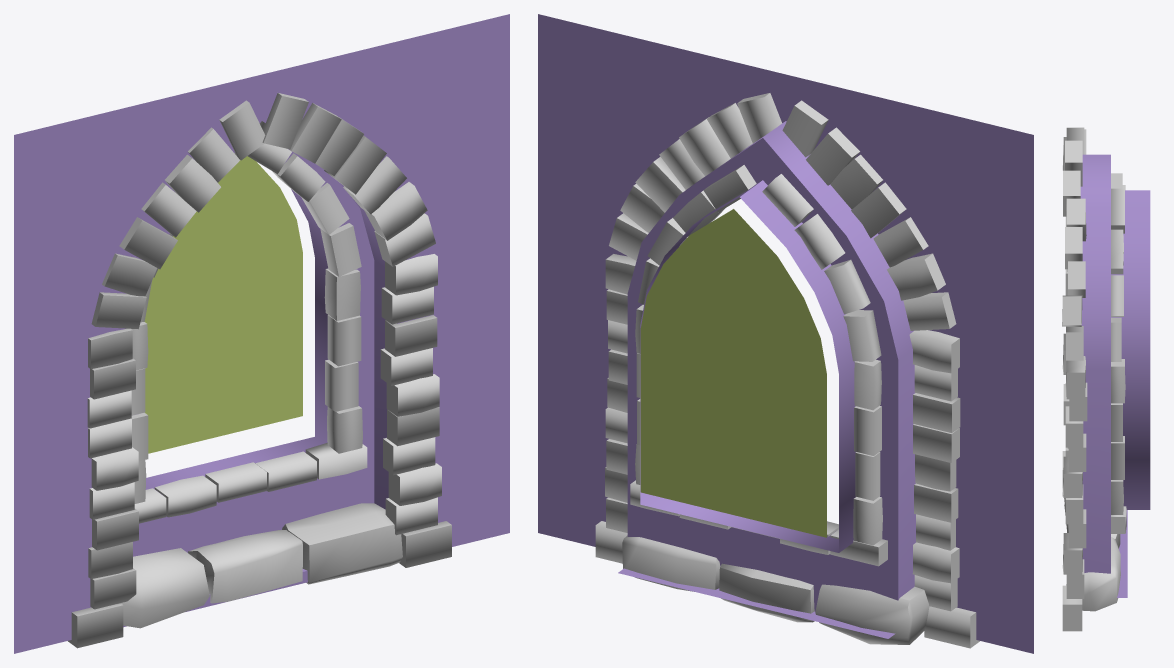
Rendered from window_a_inside.fbx.
3 renders of one model, left to right at view 1: azimuth 30°, elevation 25°; view 2: azimuth 150°, elevation 25°; view 3: azimuth 270°, elevation 25°, orthographic. The views are drawn at different scales.
Parts seen in each view (by area): view 1: Cube.011; view 2: Cube.011; view 3: Cube.011.
Part boxes in pixels (bbox=[...]): Cube.011: bbox=[14, 14, 509, 653]; Cube.011: bbox=[538, 14, 1033, 653]; Cube.011: bbox=[1062, 127, 1150, 631].
Size of the model in its own units: 5 by 5.08 by 1.02.
